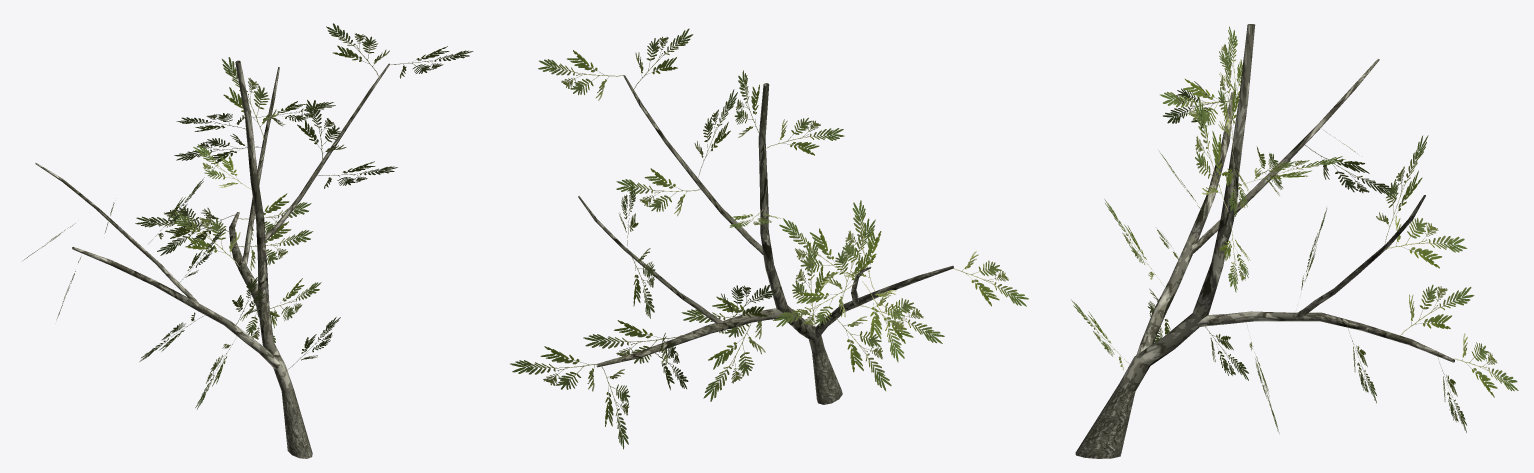
File: Branch02.fbx
The picture shows the model from 3 angles, left to right: view 1: azimuth 30°, elevation 25°; view 2: azimuth 150°, elevation 25°; view 3: azimuth 270°, elevation 25°; orthographic projection. The views are drawn at different scales.
Parts seen in each view (by area): view 1: Branch02, Object001; view 2: Branch02, Object001; view 3: Branch02, Object001.
Boxes of the visible parts, box(x1,y1,x2,y2) form: Branch02: box(23, 23, 473, 409); Object001: box(281, 389, 312, 458); Branch02: box(510, 28, 1028, 449); Object001: box(812, 348, 842, 404); Branch02: box(1071, 24, 1518, 433); Object001: box(1075, 384, 1135, 458).
Size of the model in its own units: 141 by 115 by 99.31.
